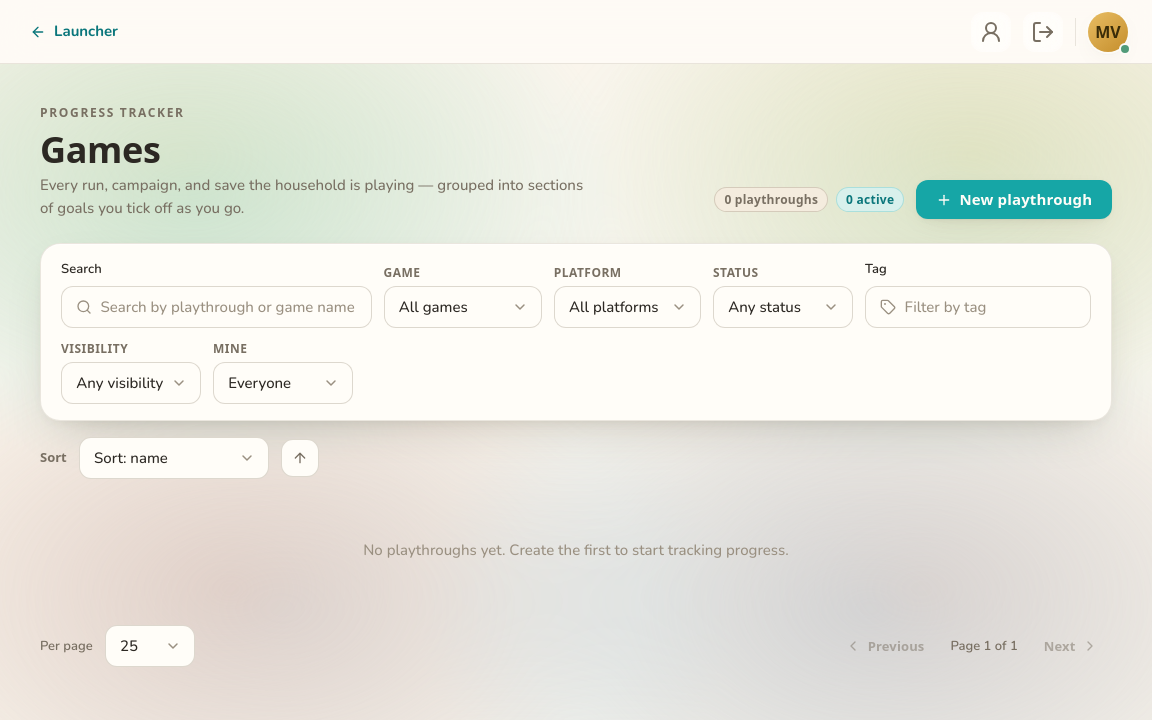
Scenario: Games playthrough editor › requires a game before creating a playthrough
Expected: the text "No playthroughs yet. Create the first to start tracking progress." is shown, [363,540,789,560]
Click the button "New playthrough" at (1014, 200), box [916,180,1112,219]
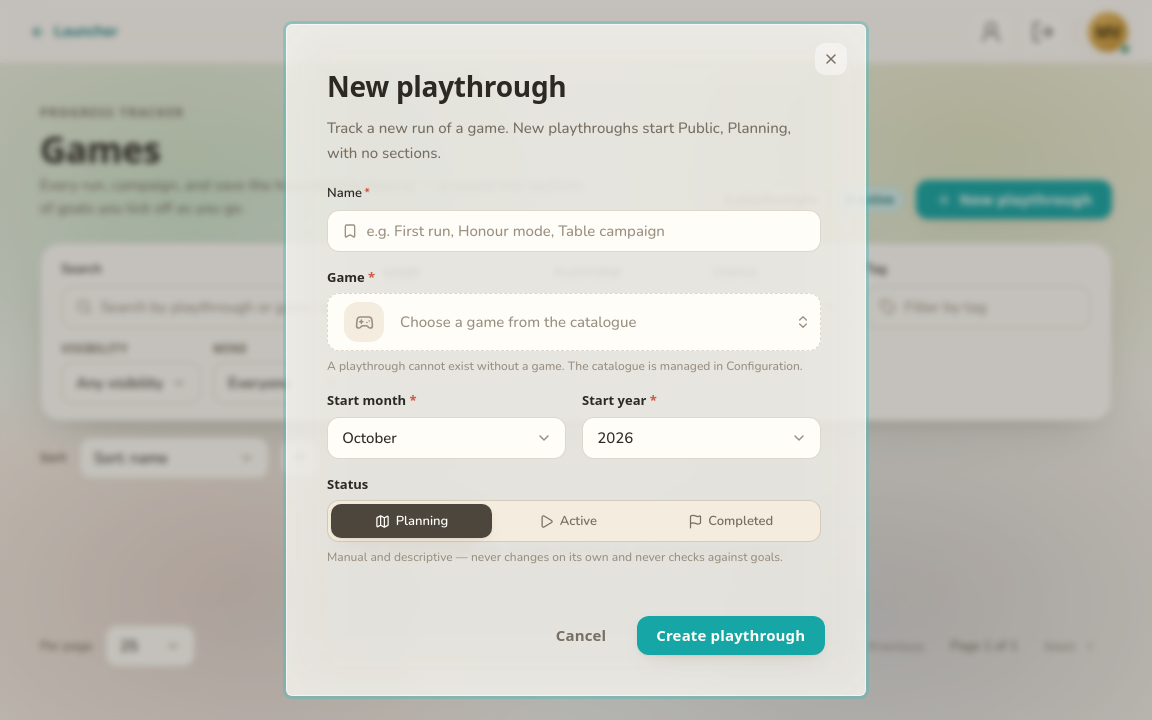
Type "Blind run" into the field labelled "Name" at (586, 231), box [366,212,806,250]
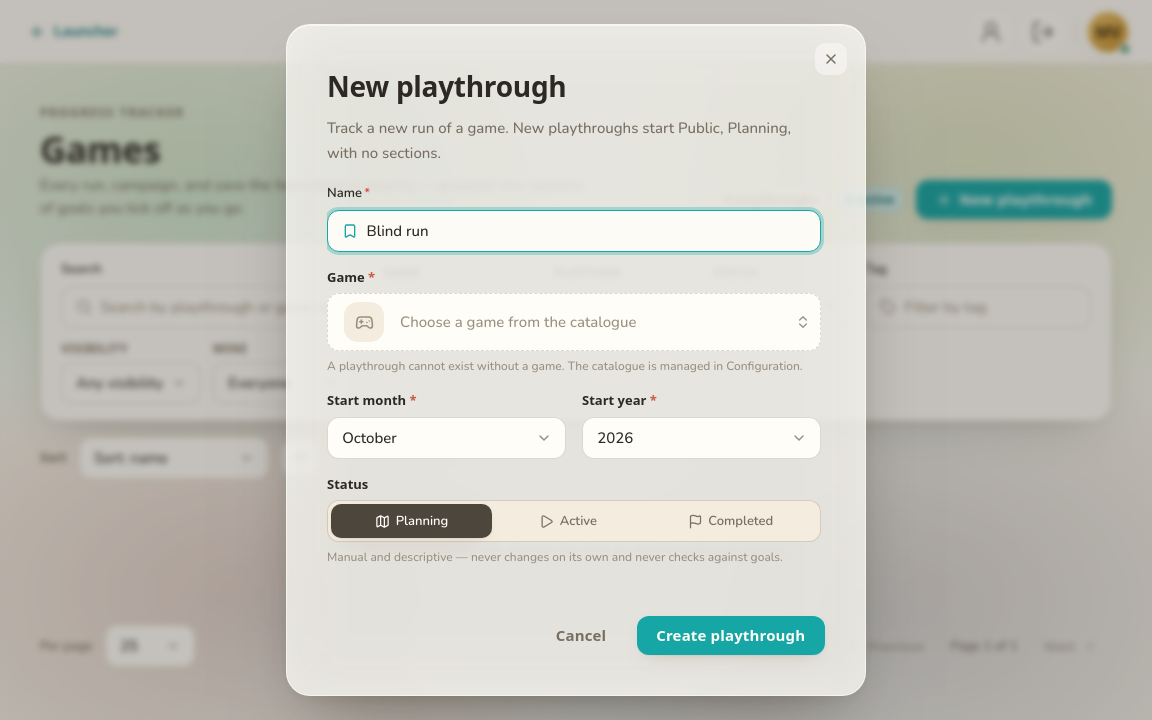
Click the button "Create playthrough" at (731, 636), box [636,616,825,655]
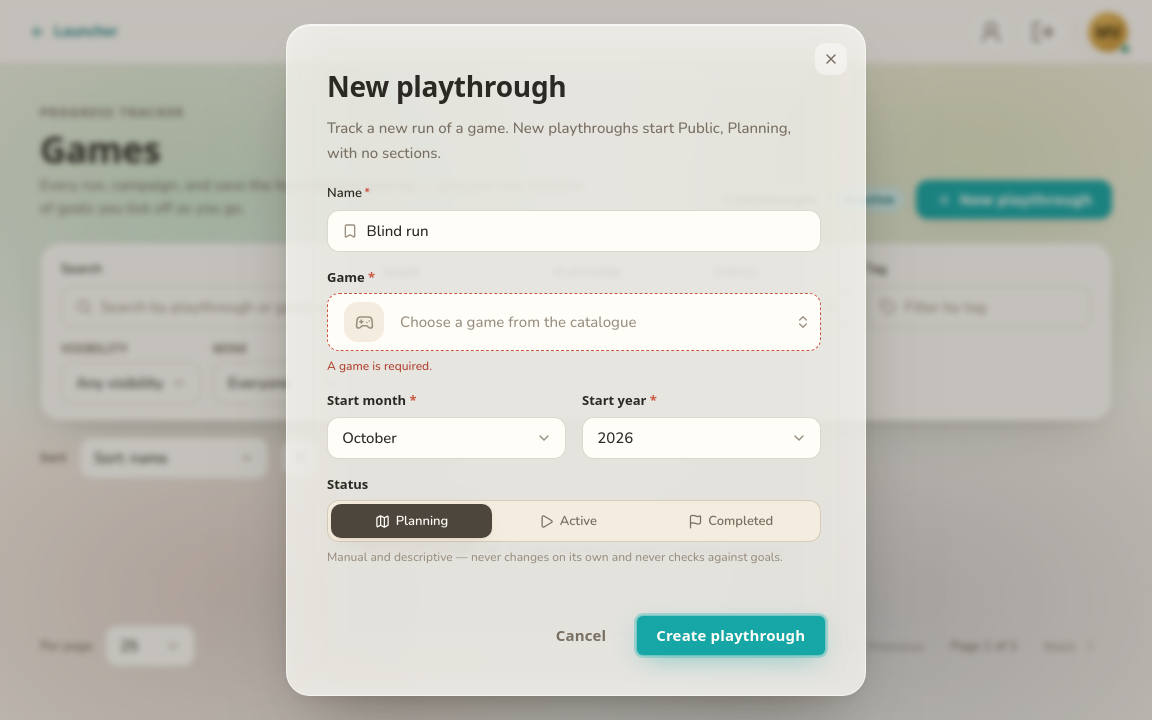
Now the text "A game is required." is shown, box [327,358,432,374]
